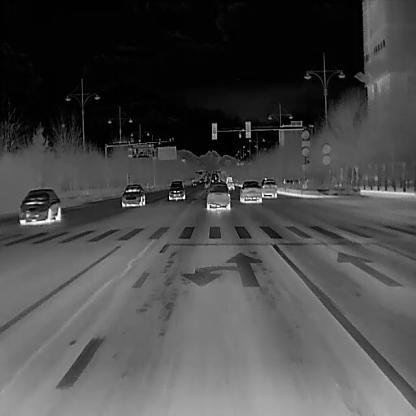car: (17, 188, 61, 224), (207, 180, 230, 209), (121, 182, 145, 206), (239, 179, 261, 203), (168, 178, 185, 198), (261, 178, 278, 197), (226, 180, 235, 190), (225, 176, 231, 182)
